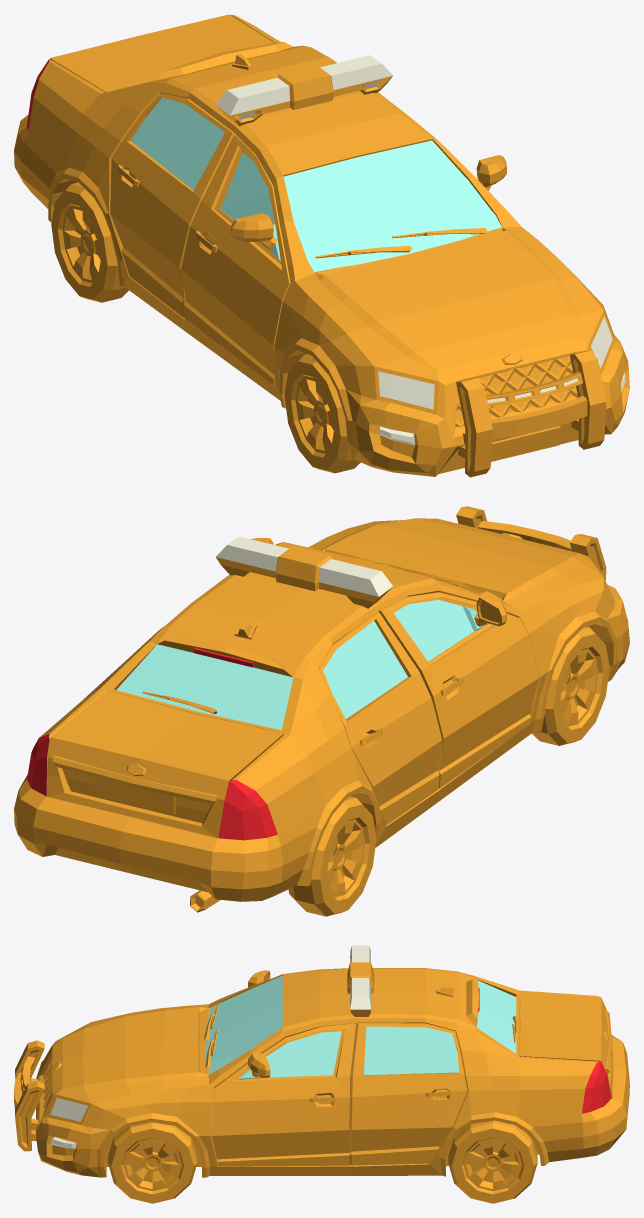
The model's file is car-police-modern.fbx.
The picture shows the model from 3 angles, top to bottom: view 1: azimuth 30°, elevation 25°; view 2: azimuth 150°, elevation 25°; view 3: azimuth 270°, elevation 25°; orthographic projection. The views are drawn at different scales.
Parts seen in each view (by area): view 1: car-police-modern-base, car-police-modern-door-rfr, car-police-modern-door-rba, car-police-modern-trunk, car-police-modern-wheel-rba, car-police-modern-wheel-rfr, car-police-modern-door-lfr; view 2: car-police-modern-base, car-police-modern-trunk, car-police-modern-door-rfr, car-police-modern-door-rba, car-police-modern-wheel-rba, car-police-modern-wheel-rfr; view 3: car-police-modern-base, car-police-modern-door-lfr, car-police-modern-door-lba, car-police-modern-trunk, car-police-modern-wheel-lba, car-police-modern-wheel-lfr.
Part boxes in pixels (left/top/right/bottom): car-police-modern-base: left=14, top=15, right=629, bottom=477; car-police-modern-door-rfr: left=181, top=134, right=290, bottom=385; car-police-modern-door-rba: left=110, top=93, right=234, bottom=317; car-police-modern-trunk: left=50, top=14, right=274, bottom=92; car-police-modern-wheel-rba: left=51, top=182, right=128, bottom=302; car-police-modern-wheel-rfr: left=284, top=354, right=360, bottom=473; car-police-modern-door-lfr: left=476, top=155, right=506, bottom=190; car-police-modern-base: left=14, top=506, right=629, bottom=912; car-police-modern-trunk: left=46, top=690, right=283, bottom=838; car-police-modern-door-rfr: left=378, top=591, right=539, bottom=788; car-police-modern-door-rba: left=319, top=611, right=442, bottom=825; car-police-modern-wheel-rba: left=288, top=796, right=376, bottom=916; car-police-modern-wheel-rfr: left=532, top=627, right=609, bottom=745; car-police-modern-base: left=14, top=945, right=629, bottom=1177; car-police-modern-door-lfr: left=212, top=1023, right=356, bottom=1166; car-police-modern-door-lba: left=349, top=1023, right=467, bottom=1165; car-police-modern-trunk: left=520, top=993, right=612, bottom=1097; car-police-modern-wheel-lba: left=448, top=1120, right=537, bottom=1203; car-police-modern-wheel-lfr: left=108, top=1122, right=197, bottom=1203.
Size of the model in its own units: 2.01 by 1.82 by 5.36.
